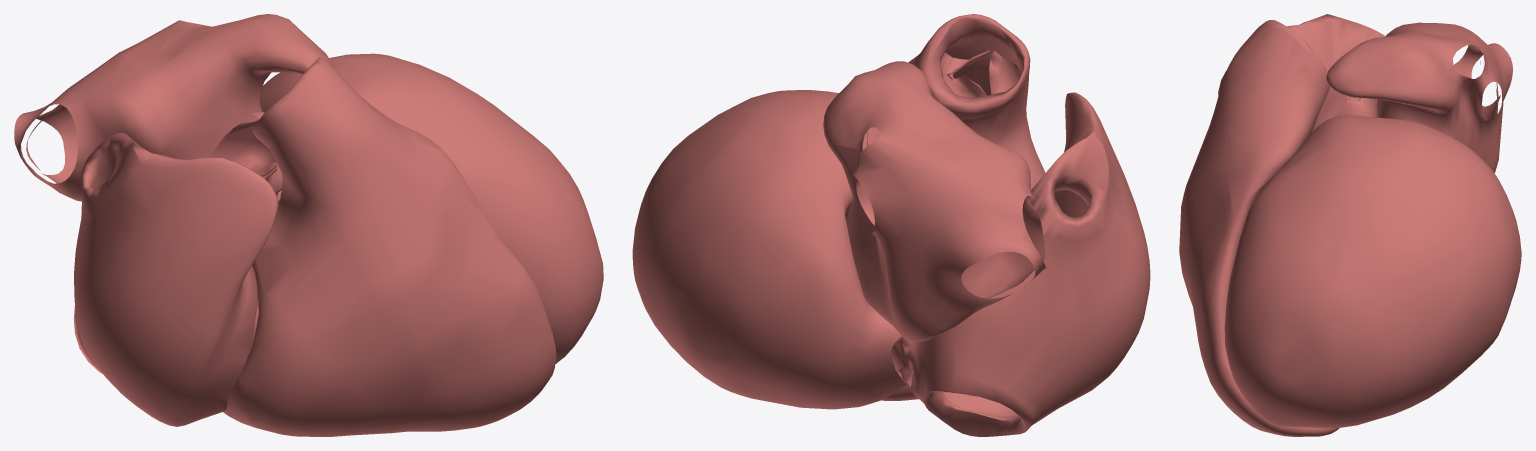
The model's file is heart.glb.
3 renders of one model, left to right at view 1: azimuth 30°, elevation 25°; view 2: azimuth 150°, elevation 25°; view 3: azimuth 270°, elevation 25°, orthographic. The views are drawn at different scales.
Parts seen in each view (by area): view 1: VH_F_right_ventricle, VH_F_right_cardiac_atrium, VH_F_left_ventricle, VH_F_left_cardiac_atrium, VH_F_aortic_valve; view 2: VH_F_left_ventricle, VH_F_right_cardiac_atrium, VH_F_left_cardiac_atrium, VH_F_right_ventricle, VH_F_pulmonary_valve; view 3: VH_F_left_ventricle, VH_F_right_ventricle, VH_F_left_cardiac_atrium, VH_F_right_cardiac_atrium, VH_F_aortic_valve.
Boxes of the visible parts, left/top/right/bottom form: VH_F_right_ventricle: left=223, top=57, right=556, bottom=436; VH_F_right_cardiac_atrium: left=73, top=132, right=278, bottom=426; VH_F_left_ventricle: left=260, top=53, right=603, bottom=363; VH_F_left_cardiac_atrium: left=14, top=14, right=334, bottom=201; VH_F_aortic_valve: left=210, top=111, right=282, bottom=202; VH_F_left_ventricle: left=632, top=90, right=906, bottom=409; VH_F_right_cardiac_atrium: left=890, top=92, right=1150, bottom=436; VH_F_left_cardiac_atrium: left=823, top=61, right=1046, bottom=342; VH_F_right_ventricle: left=882, top=14, right=1045, bottom=400; VH_F_pulmonary_valve: left=940, top=50, right=1019, bottom=97; VH_F_left_ventricle: left=1224, top=115, right=1521, bottom=428; VH_F_right_ventricle: left=1179, top=20, right=1339, bottom=436; VH_F_left_cardiac_atrium: left=1326, top=22, right=1512, bottom=172; VH_F_right_cardiac_atrium: left=1218, top=14, right=1385, bottom=103; VH_F_aortic_valve: left=1312, top=86, right=1377, bottom=132.
Size of the model in its own units: 0.1425 by 0.1099 by 0.1015.
